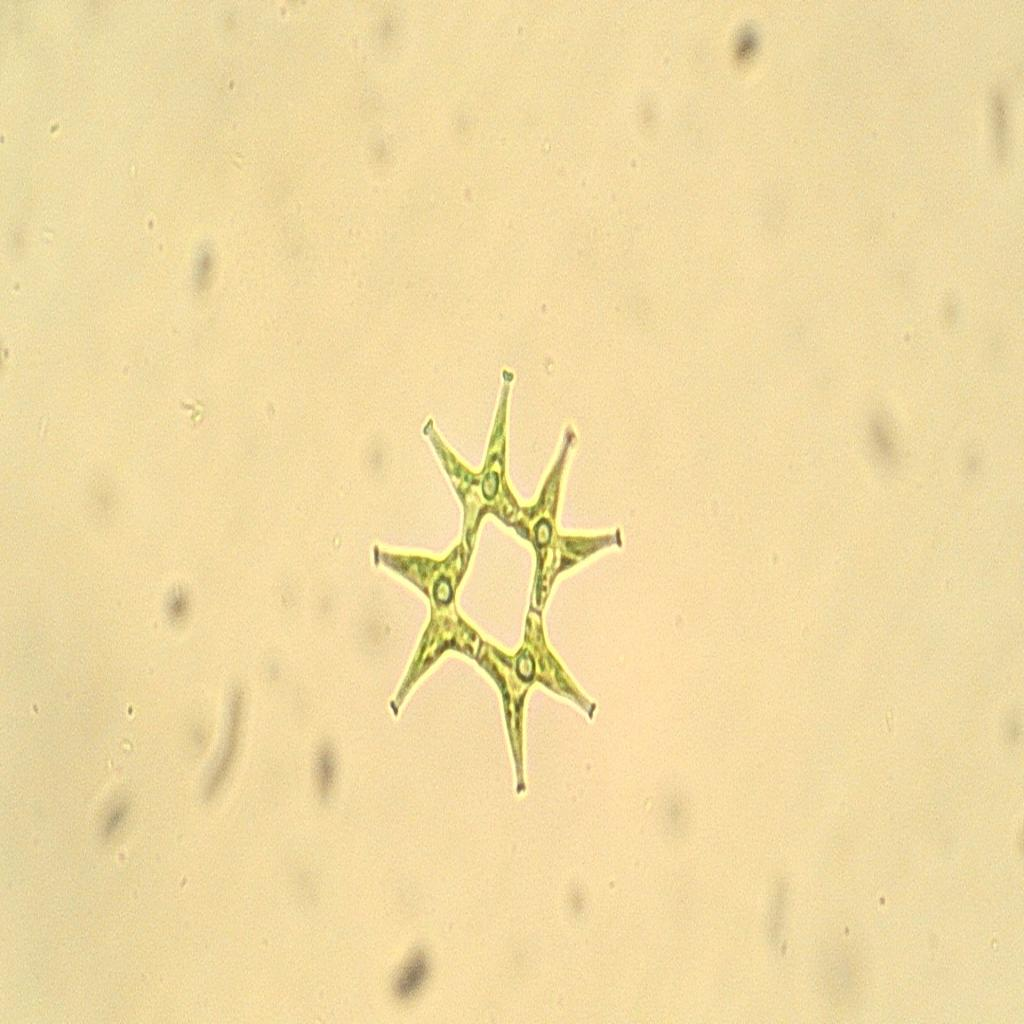Pediastrum_CO: (340, 355, 650, 813)
